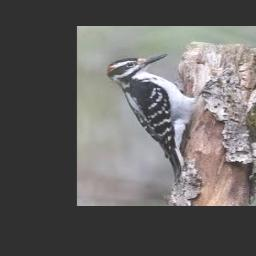Woodpecker: (107, 53, 198, 180)
